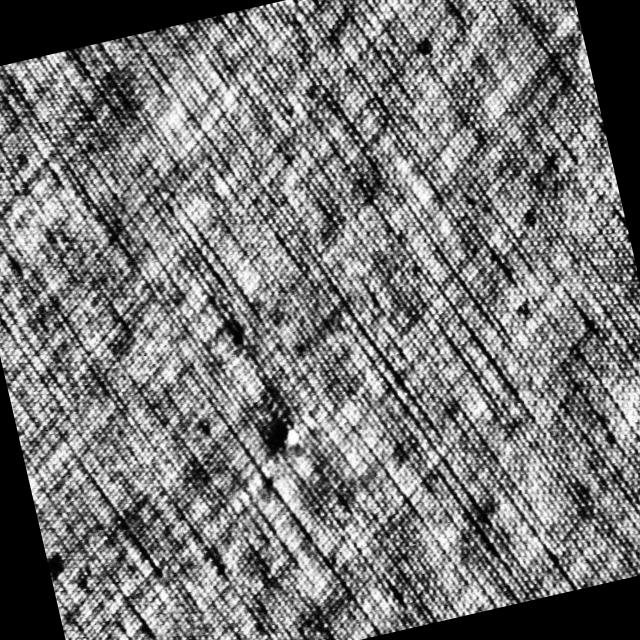cut: (282, 422, 302, 449)
